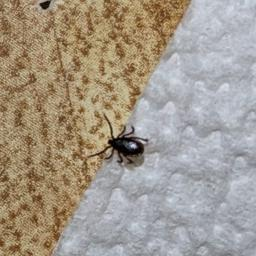Ixodes scapularis: (87, 114, 149, 164)
